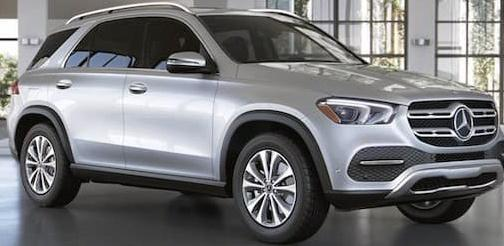SUV: (8, 4, 504, 243)
